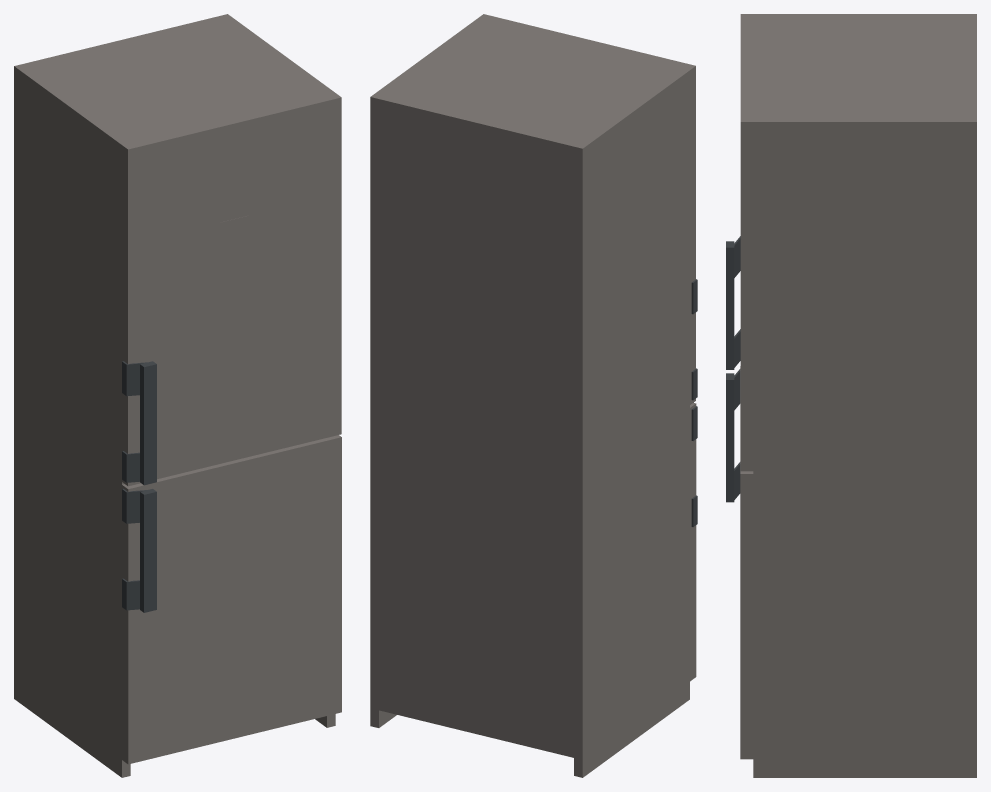
File: refrigeratorwithverticalhandle _01_A.gltf
The picture shows the model from 3 angles, left to right: view 1: azimuth 30°, elevation 25°; view 2: azimuth 150°, elevation 25°; view 3: azimuth 270°, elevation 25°; orthographic projection. The views are drawn at different scales.
Parts seen in each view (by area): view 1: refrigeratorwithverticalhandle _01_A, Doorrefrigeratorwithverticalhandletop _01_A, Doorrefrigeratorwithverticalhandlebot _01_A; view 2: refrigeratorwithverticalhandle _01_A, Doorrefrigeratorwithverticalhandletop _01_A, Doorrefrigeratorwithverticalhandlebot _01_A; view 3: refrigeratorwithverticalhandle _01_A, Doorrefrigeratorwithverticalhandletop _01_A, Doorrefrigeratorwithverticalhandlebot _01_A.
Part boxes in pixels (left/top/right/bottom): refrigeratorwithverticalhandle _01_A: left=14, top=14, right=335, bottom=777; Doorrefrigeratorwithverticalhandletop _01_A: left=122, top=93, right=341, bottom=486; Doorrefrigeratorwithverticalhandlebot _01_A: left=122, top=435, right=341, bottom=764; refrigeratorwithverticalhandle _01_A: left=370, top=18, right=689, bottom=777; Doorrefrigeratorwithverticalhandletop _01_A: left=478, top=14, right=697, bottom=404; Doorrefrigeratorwithverticalhandlebot _01_A: left=690, top=402, right=697, bottom=681; refrigeratorwithverticalhandle _01_A: left=753, top=14, right=976, bottom=777; Doorrefrigeratorwithverticalhandletop _01_A: left=726, top=14, right=753, bottom=471; Doorrefrigeratorwithverticalhandlebot _01_A: left=726, top=366, right=753, bottom=759.
Size of the model in its own units: 0.8059 by 2.26 by 0.7847.
Materials: 1 (1 with a texture image).
